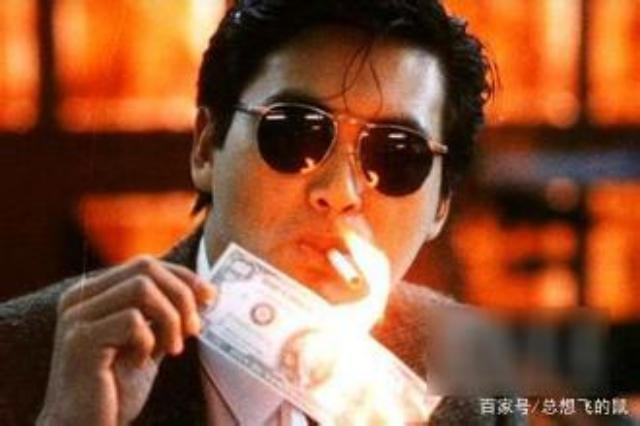Cigarette: (323, 246, 361, 290)
